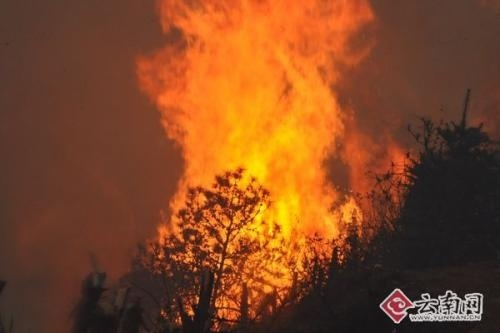fire: (141, 6, 398, 308)
